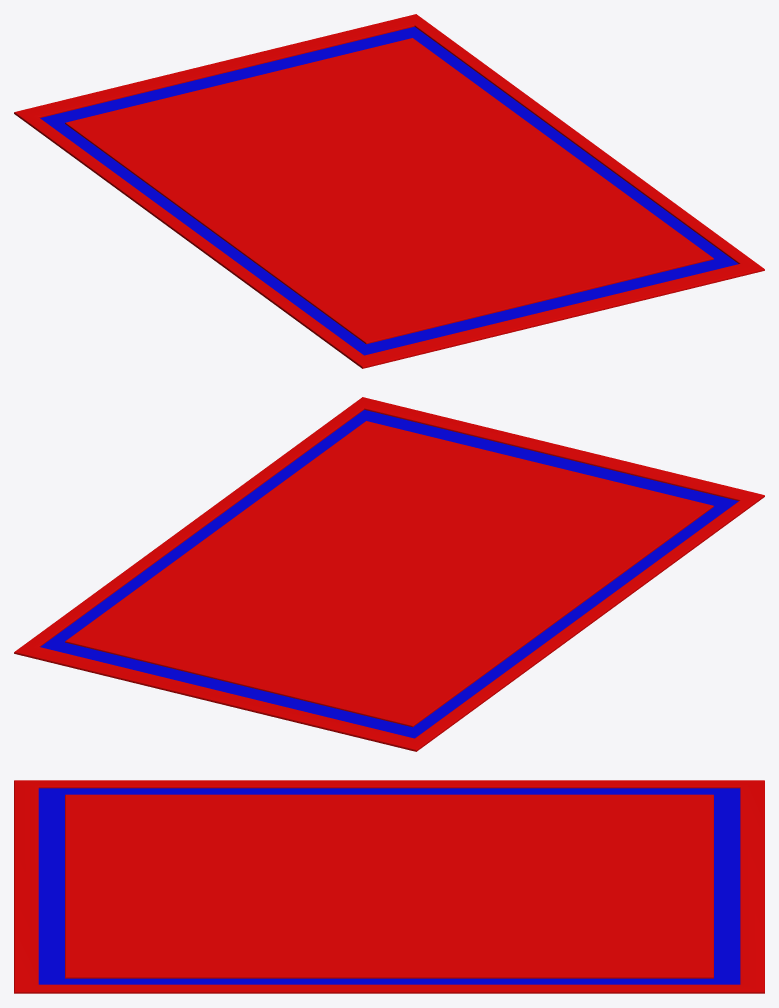
Rendered from Rug1.fbx.
3 renders of one model, top to bottom at view 1: azimuth 30°, elevation 25°; view 2: azimuth 150°, elevation 25°; view 3: azimuth 270°, elevation 25°, orthographic. The views are drawn at different scales.
Visible parts, largest first — view 1: Rug1; view 2: Rug1; view 3: Rug1.
Boxes of the visible parts, bbox=[...] form: Rug1: bbox=[14, 14, 764, 368]; Rug1: bbox=[14, 397, 764, 751]; Rug1: bbox=[14, 780, 764, 993].
Bounding box in the file's own units: 200 × 1 × 300.
